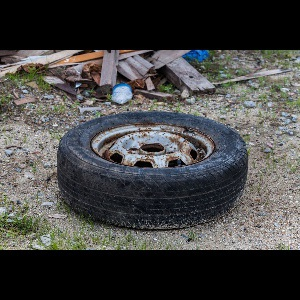tire: (58, 112, 249, 231)
